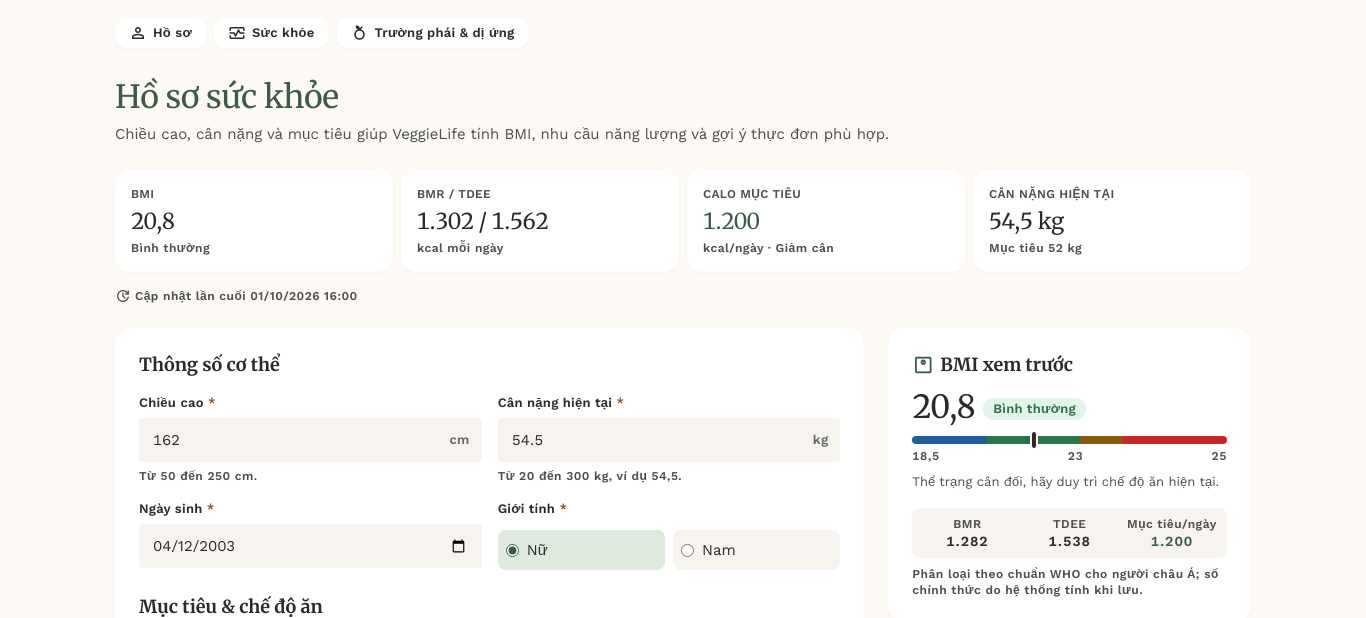
Test: HealthProfile (SCR-08) › Thành viên › nhập sai thì báo lỗi ngay trên màn hình, không gọi PUT
The width and height of the screenshot is (1366, 618).
Later steps or results of the test are not shown.
Replace the text in the field labelled "Chiều cao *" with "300": x=310, y=440 [139,418,482,462]
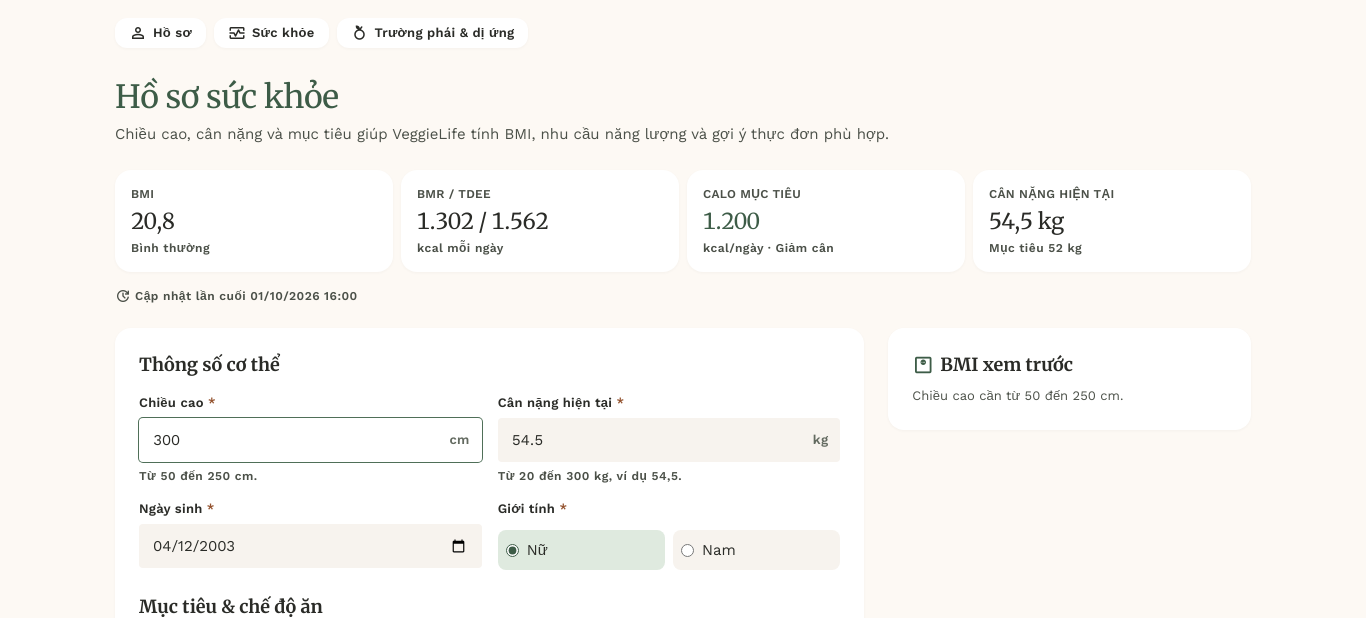
Press Tab
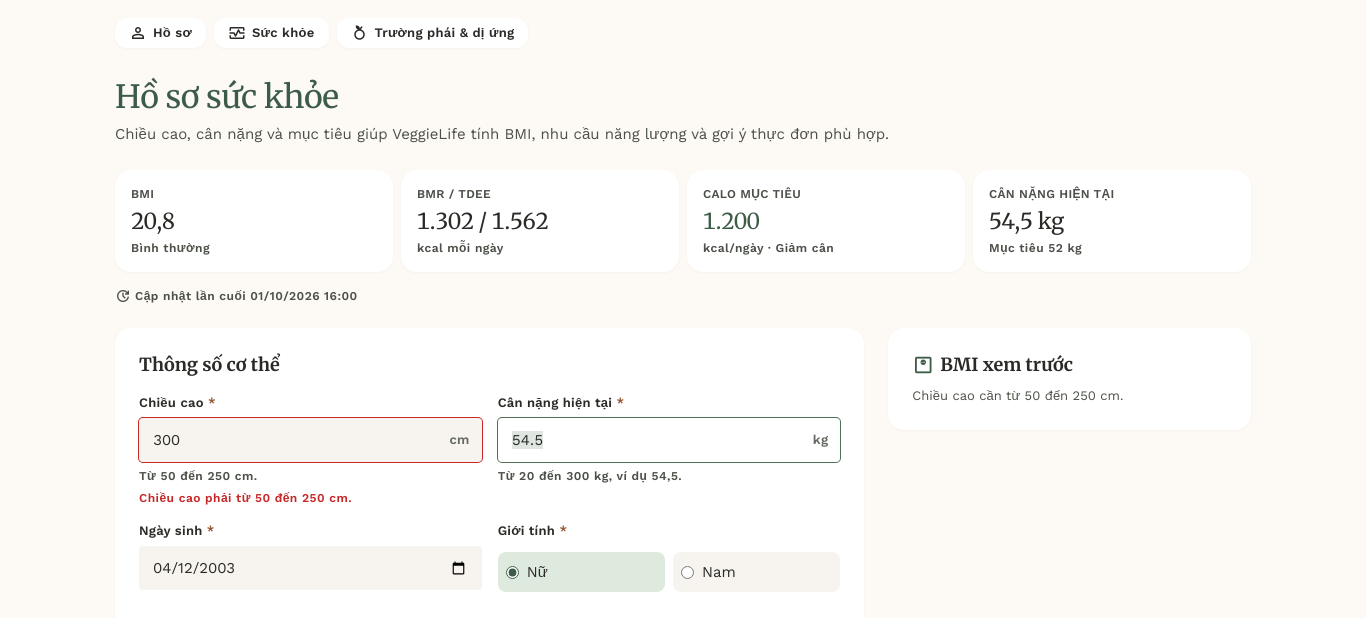
expect the text "Chiều cao phải từ 50 đến 250 cm." is shown: met, box [139,491,352,505]
Replace the text in the field labelled "Cân nặng hiện tại *" with "15": x=669, y=440 [498,418,840,462]
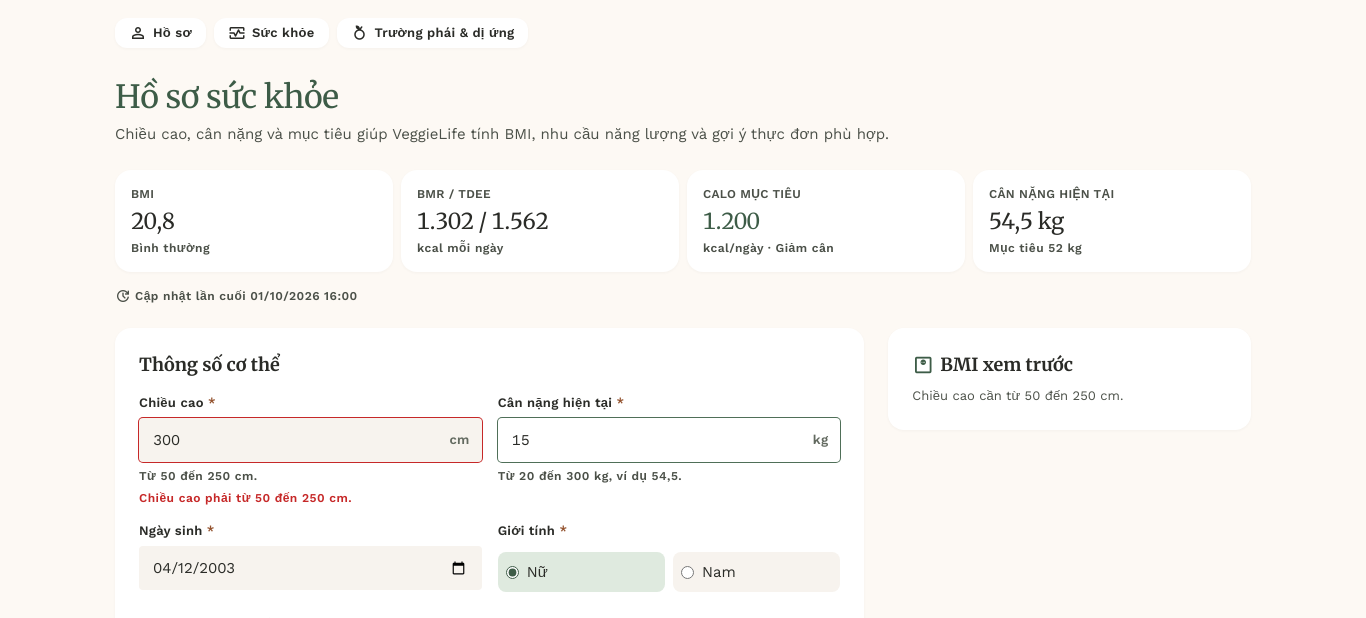
Press Tab
(page scrolled)
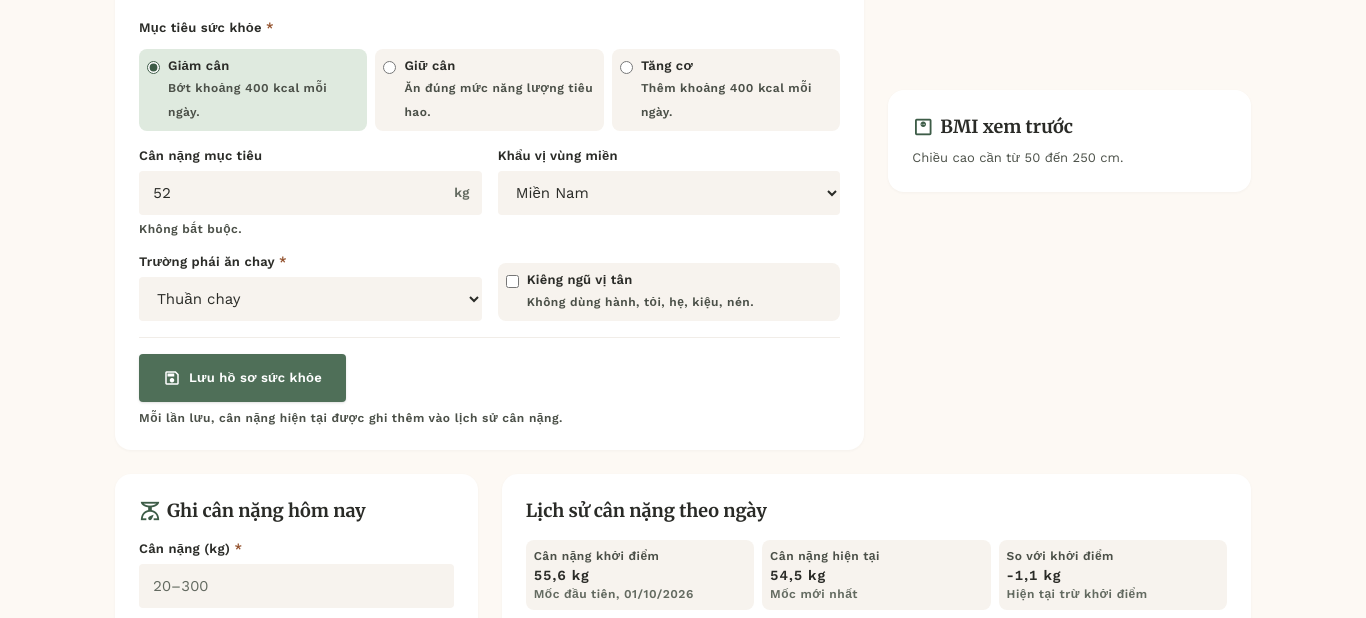
expect the text "Chiều cao cần từ 50 đến 250 cm." is shown: met, box [912,150,1123,165]
